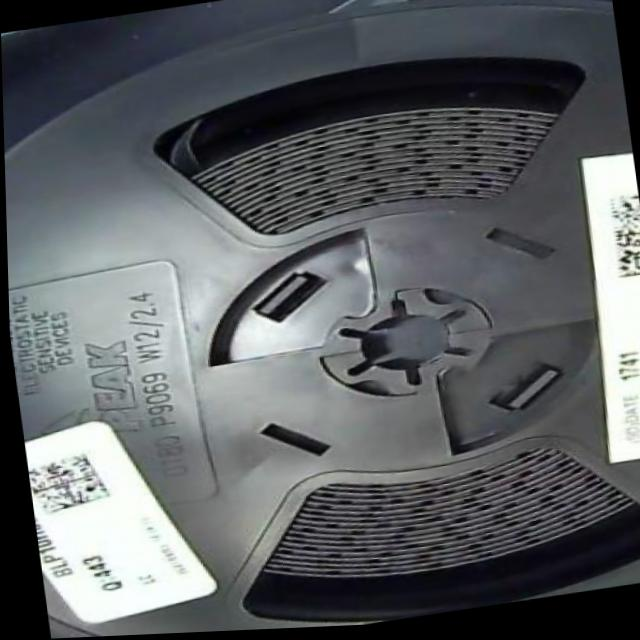datamatrix: (24, 446, 109, 519), (603, 197, 640, 287)
